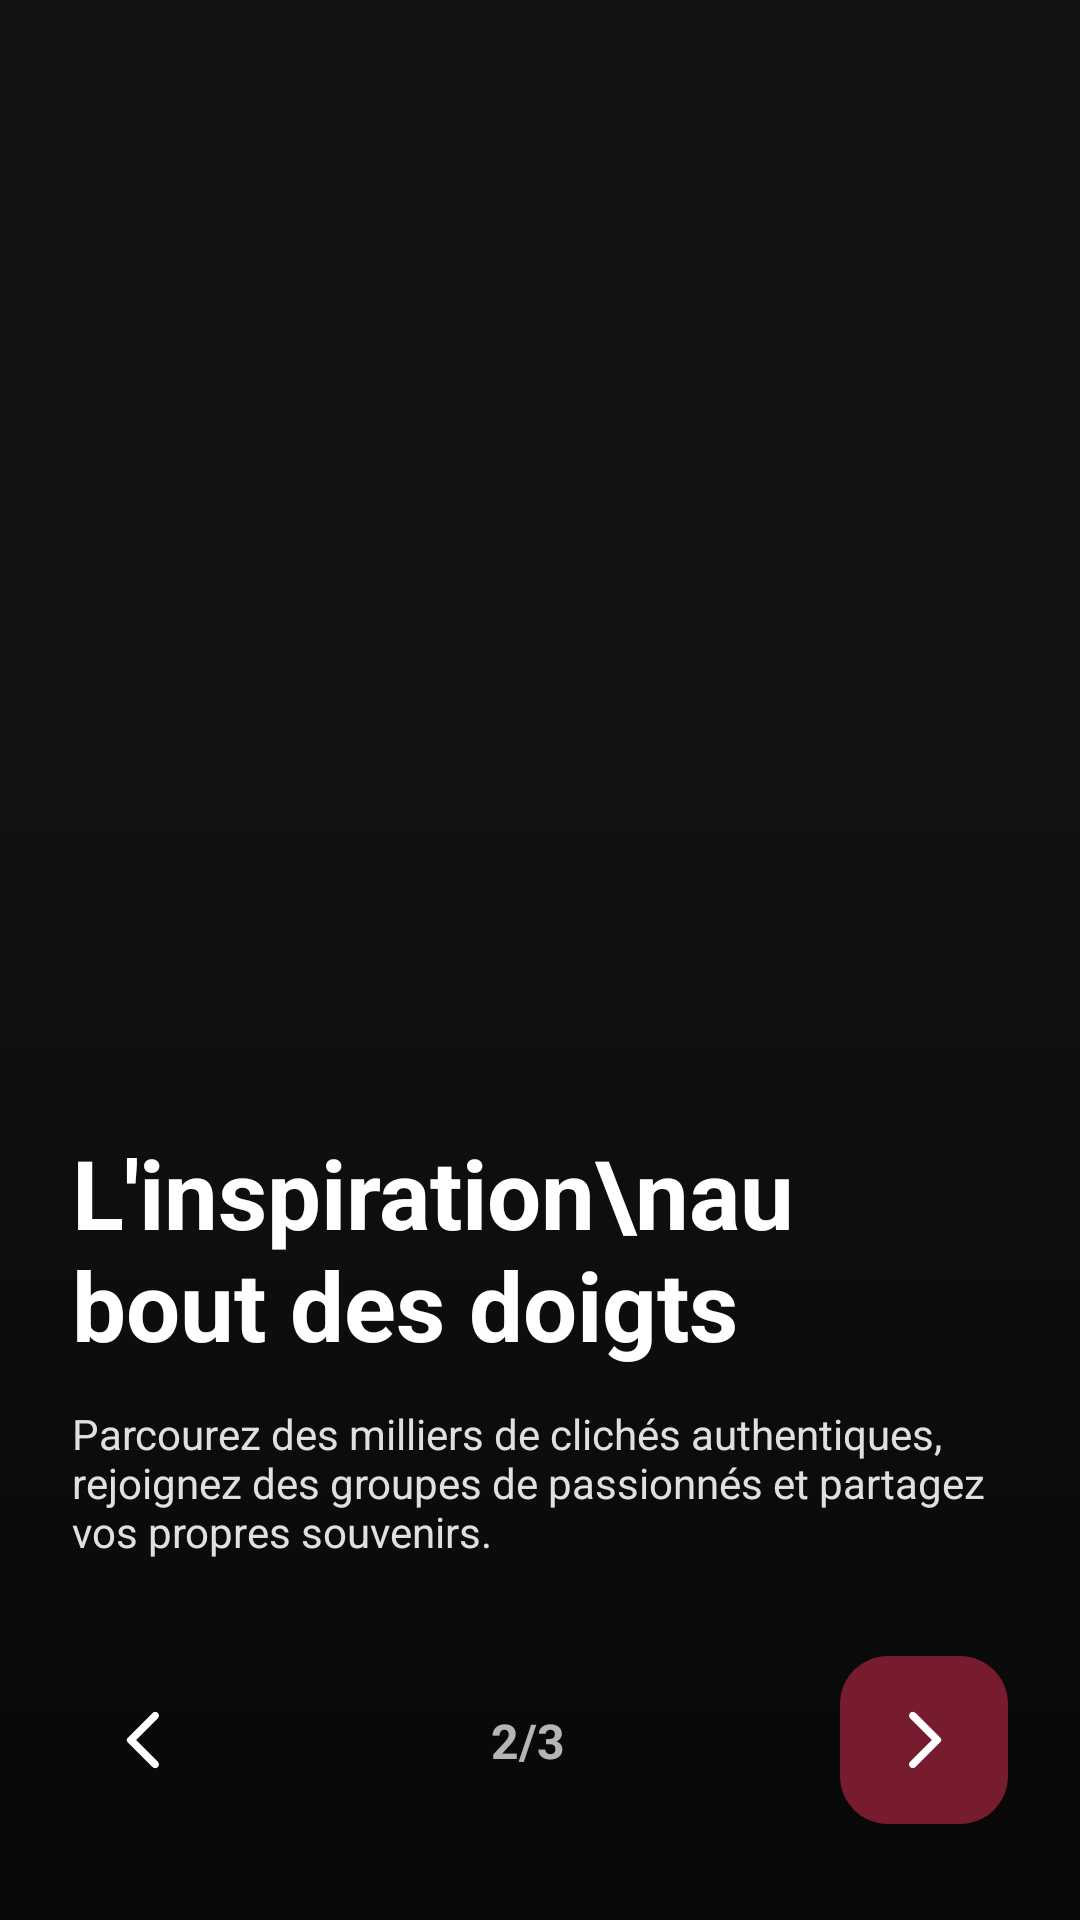

Icon click points for this 1080 x 1920 phone screenshot, format [x,y]:
chevron left: [142,1740]
chevron right: [924,1740]
